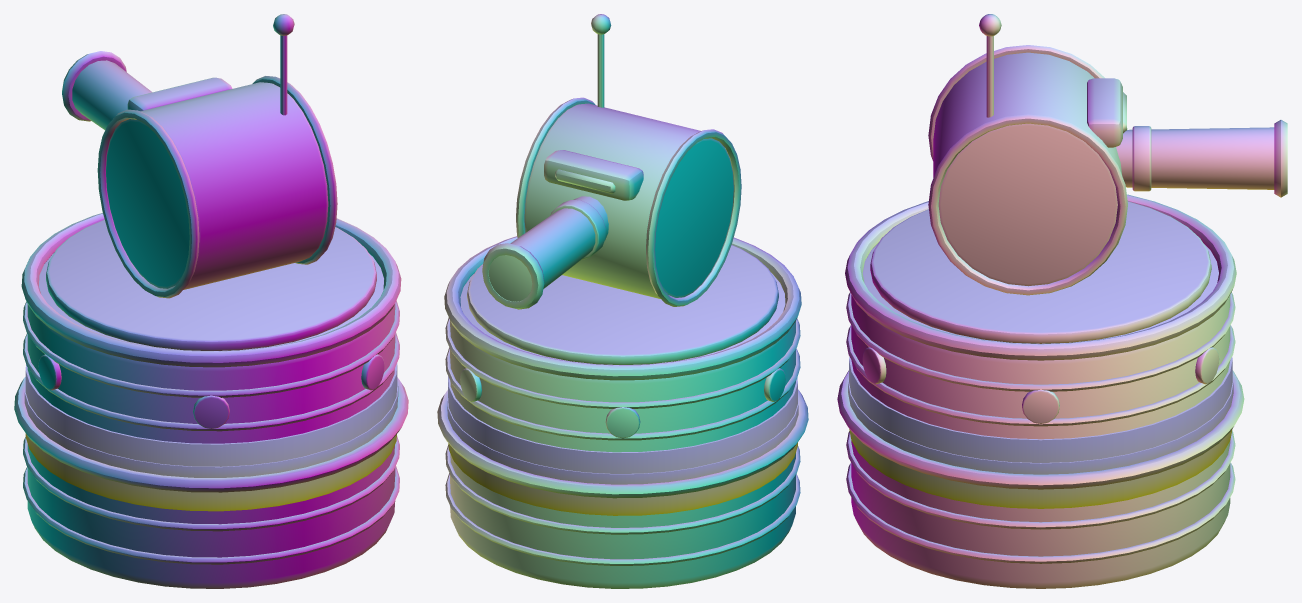
File: unit_turret.glb
3 views of the same model, side by side, from view 1: azimuth 30°, elevation 25°; view 2: azimuth 150°, elevation 25°; view 3: azimuth 270°, elevation 25° (orthographic). The views are drawn at different scales.
Visible parts, largest first — view 1: base, head; view 2: base, head; view 3: base, head.
Boxes of the visible parts, <box> form: base: <box>14,213,408,588</box>; head: <box>62,14,337,298</box>; base: <box>437,236,808,588</box>; head: <box>482,14,741,309</box>; base: <box>837,194,1244,588</box>; head: <box>928,14,1287,295</box>.
Bounding box in the file's own units: 0.644 × 0.913 × 0.7124.
